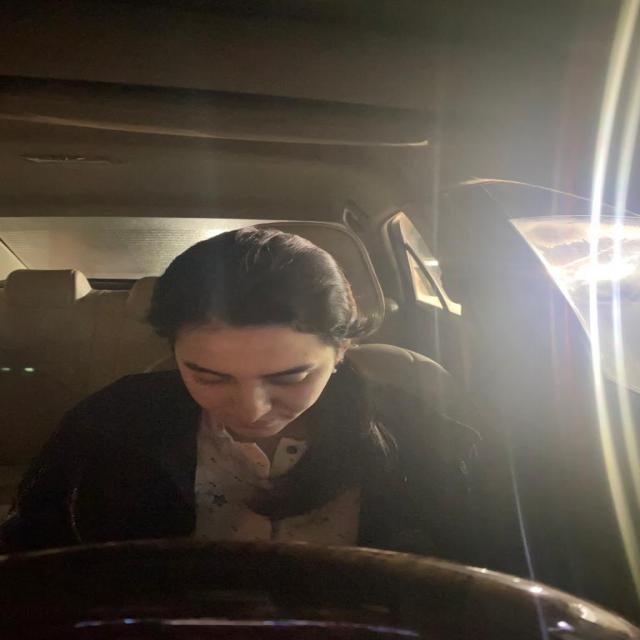drowsy: (146, 225, 364, 446)
